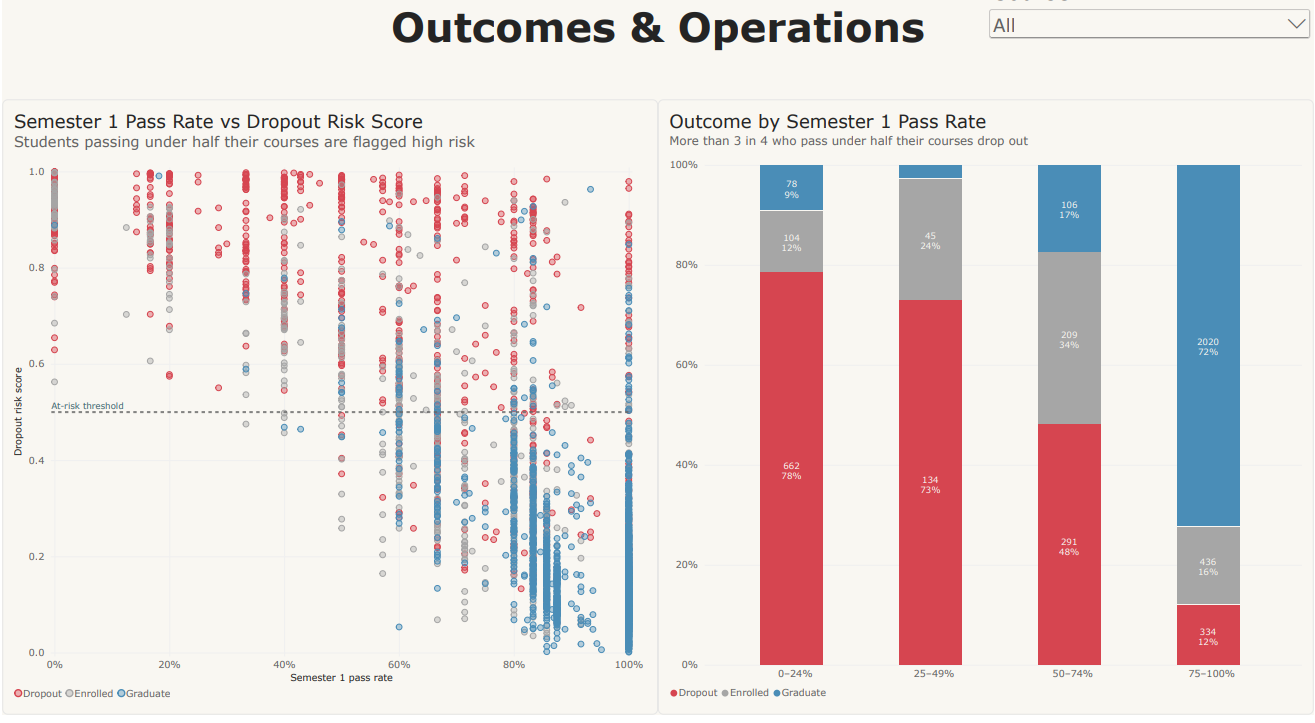

Layout of this report page (visuals, bound fields, positions):
{"tool":"powerbi","page":{"name":"Outcomes & Operations","canvas":[1920,1080],"ordinal":2},"visuals":[{"type":"scatterChart","title":"Semester 1 Pass Rate vs Dropout Risk Score","fields":{"Category":["students_scored.student_id"],"Series":["students_scored.target"],"X":["Avg(students_scored.sem1_pass_rate)"],"Y":["Avg(students_scored.dropout_risk_score)"]},"box":[0,180,960,900],"z":0},{"type":"hundredPercentStackedColumnChart","title":"Outcome by Semester 1 Pass Rate","fields":{"Category":["students_scored.Pass Rate Band"],"Series":["students_scored.target"],"Y":["CountNonNull(students_scored.student_id)"]},"box":[960,180,960,900],"z":1000},{"type":"textbox","box":[0,36.7,1920,116.7],"z":2000},{"type":"slicer","fields":{"Values":["students_scored.course_name"]},"box":[1440,0,480,106.7],"z":3000}]}

Visuals, with their boxes in screenshot pixels (x1, y1, x2, y2), scaled from the page's 1920x1080 canvas onto the 1315x723 screenshot:
"Semester 1 Pass Rate vs Dropout Risk Score" scatterChart: pyautogui.locateOnScreen(0, 120, 658, 722)
"Outcome by Semester 1 Pass Rate" hundredPercentStackedColumnChart: pyautogui.locateOnScreen(658, 120, 1314, 722)
textbox: pyautogui.locateOnScreen(0, 25, 1314, 103)
slicer - students_scored.course_name: pyautogui.locateOnScreen(986, 0, 1314, 71)
